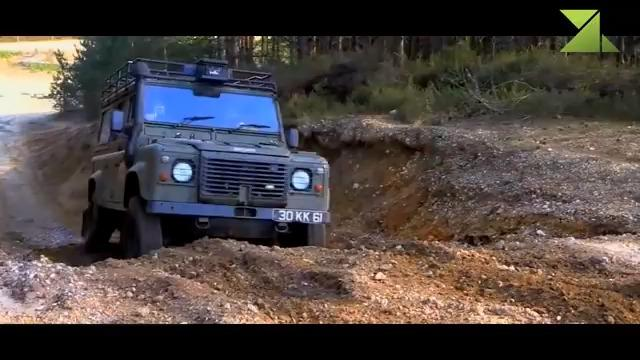MIL_HMMWV: (82, 60, 333, 254)
